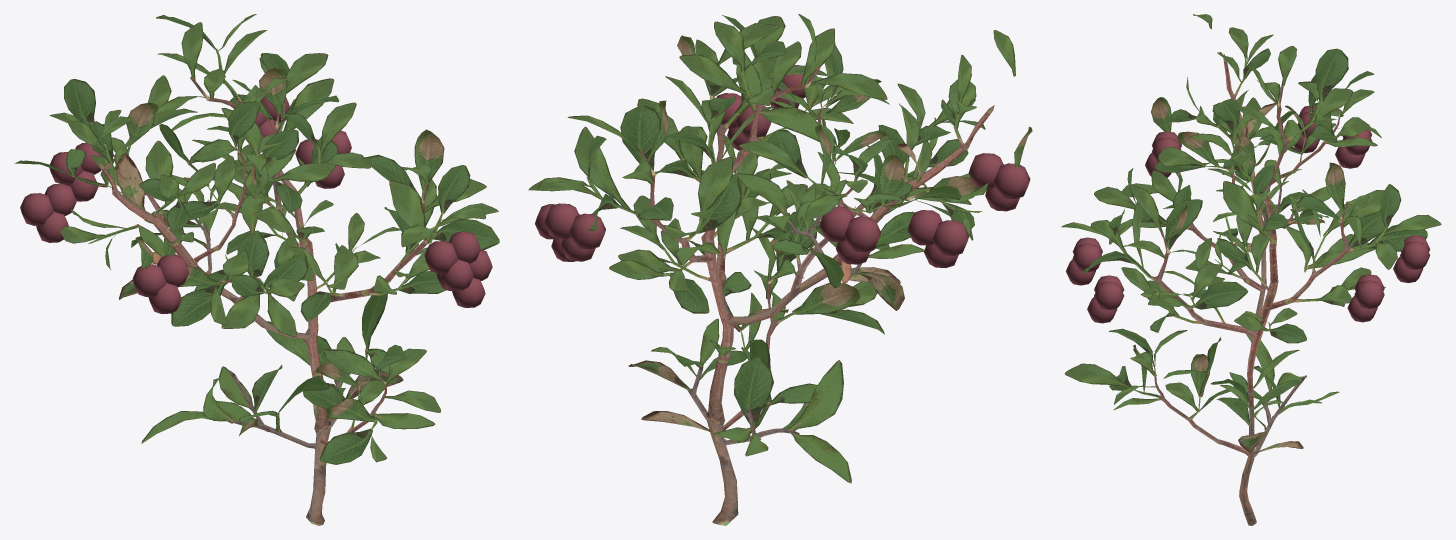
The model's file is rooted-berries-clear.glb.
3 views of the same model, side by side, from view 1: azimuth 30°, elevation 25°; view 2: azimuth 150°, elevation 25°; view 3: azimuth 270°, elevation 25° (orthographic). The views are drawn at different scales.
Parts seen in each view (by area): view 1: rooted-berries-clear runtime mesh; view 2: rooted-berries-clear runtime mesh; view 3: rooted-berries-clear runtime mesh.
Boxes of the visible parts, box(x1,y1,x2,y2) form: rooted-berries-clear runtime mesh: box(14, 14, 499, 525); rooted-berries-clear runtime mesh: box(528, 14, 1032, 525); rooted-berries-clear runtime mesh: box(1061, 14, 1441, 525).
Bounding box in the file's own units: 0.8407 × 1.05 × 0.8253.
Materials: 2 (1 with a texture image).
